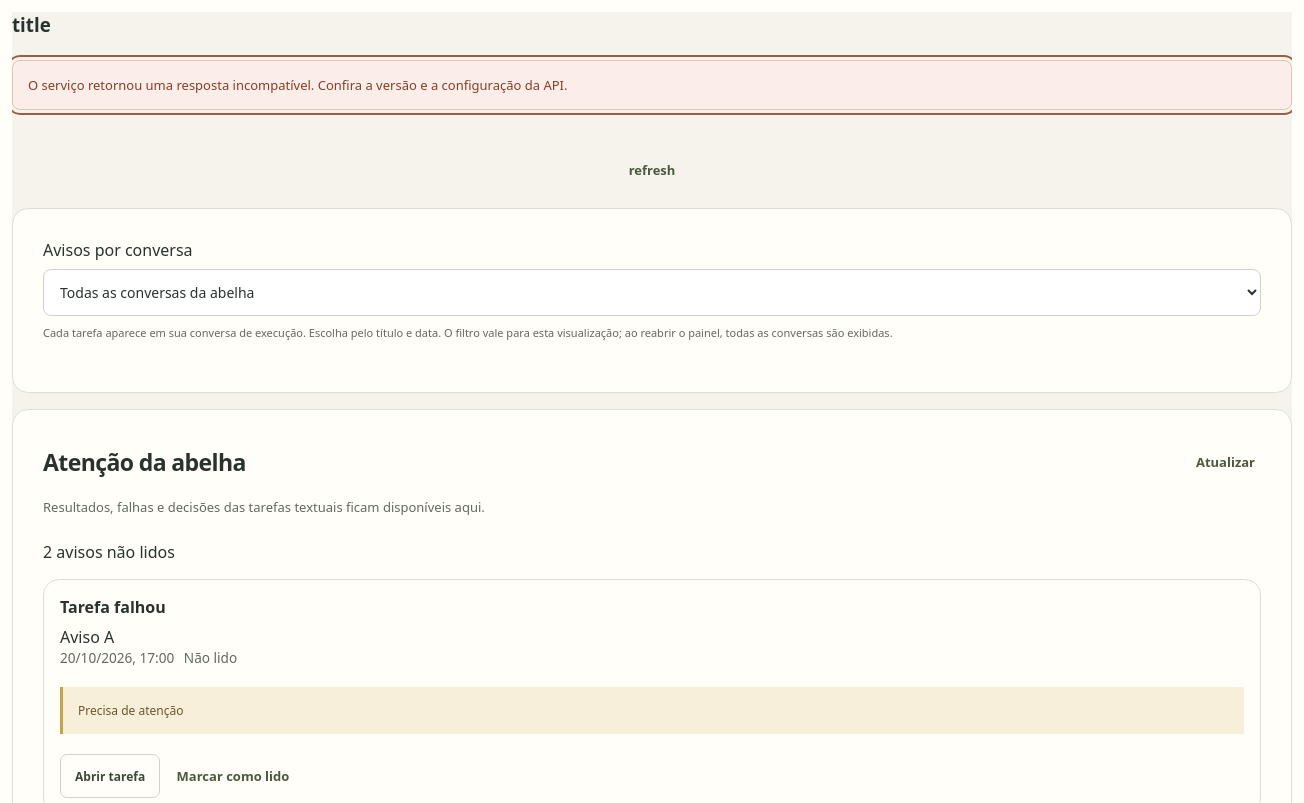
Test: attention scope workspace › locks scope after an uncertain read and retries the same body in the same conversation
Select "Conversa <script> · 20/10/2026, 17:00" in the dropdown: (652, 293) top-left (43, 269), bottom-right (1261, 316)
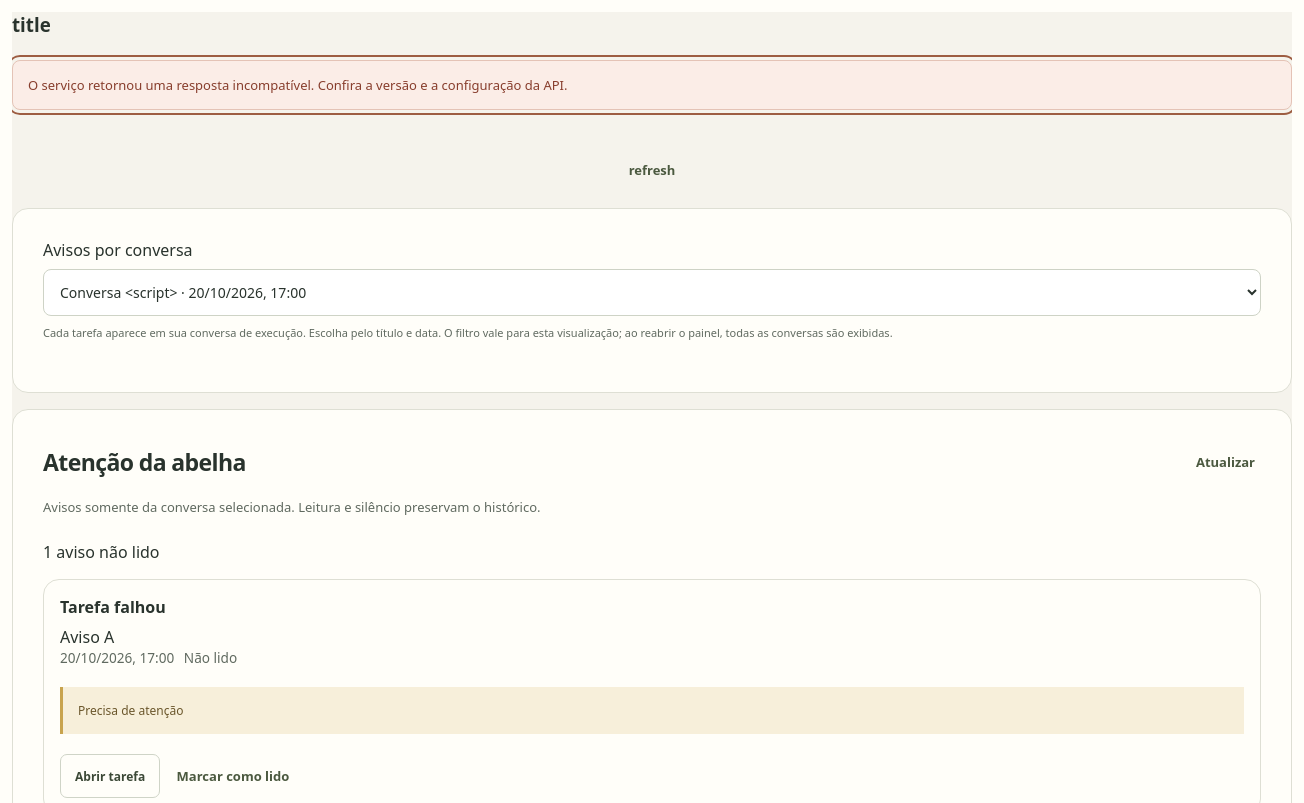
Click the button "Marcar como lido": (233, 776) top-left (171, 754), bottom-right (295, 798)
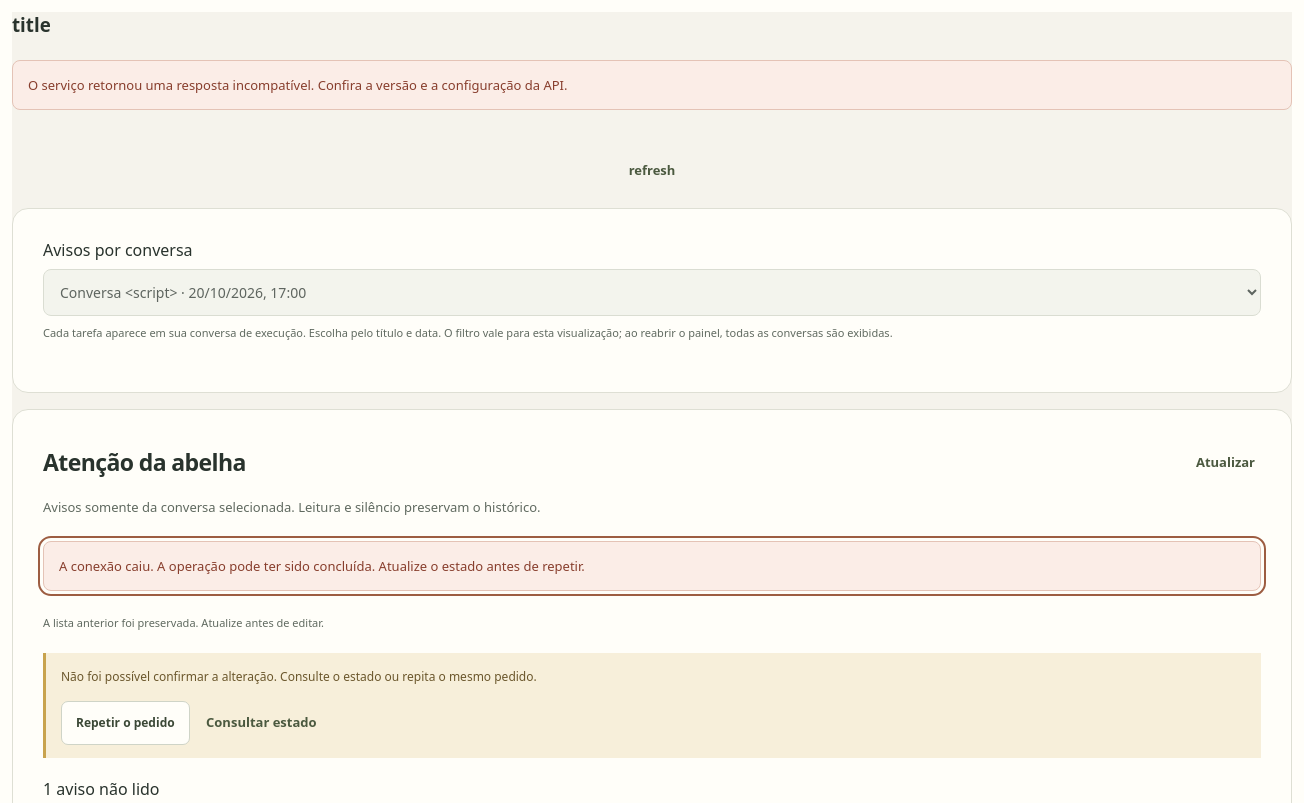
Now the dropdown is disabled, box top-left (43, 269), bottom-right (1261, 316)
Now the text "Não foi possível confirmar a alteração. Consulte o estado ou repita o mesmo pedido." is shown, box top-left (61, 668), bottom-right (537, 685)
Click the button "Repetir o pedido": (125, 723) top-left (61, 701), bottom-right (190, 745)
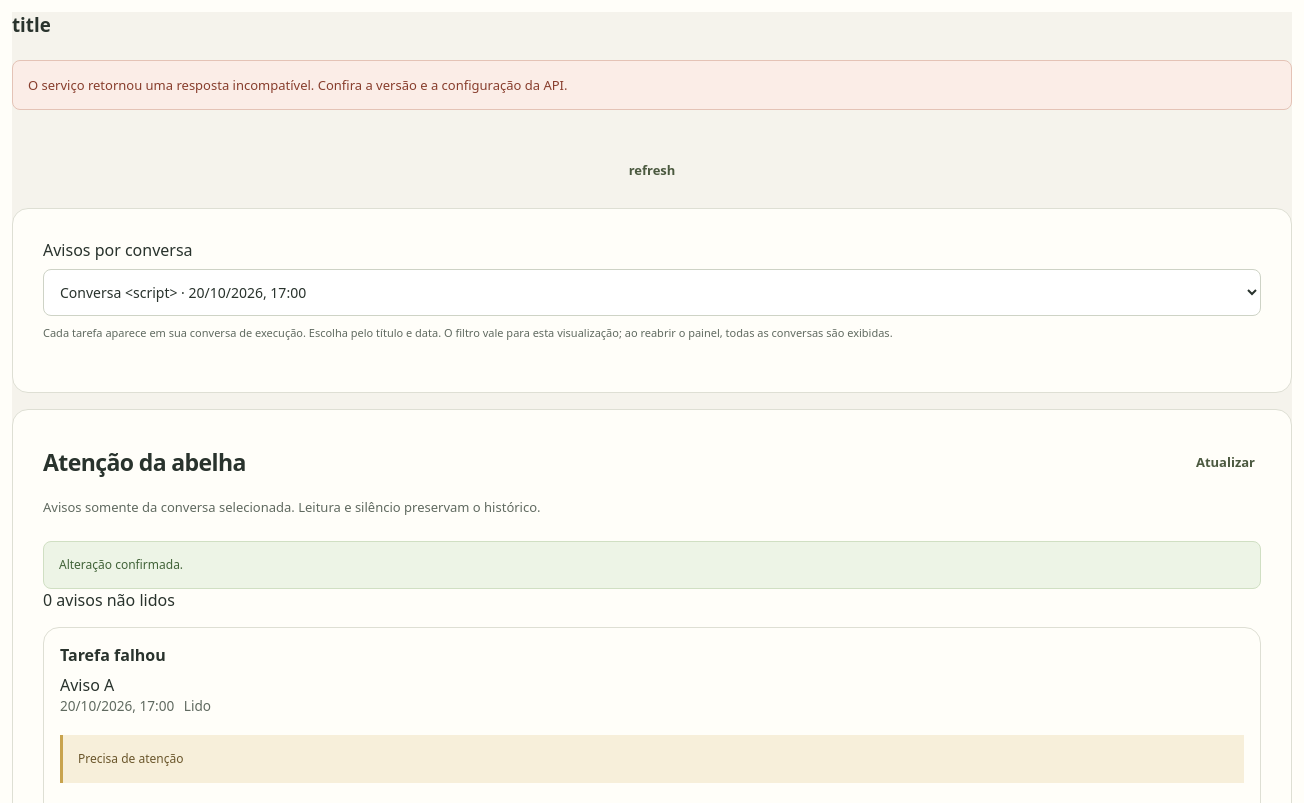
Now the dropdown is enabled, box top-left (43, 269), bottom-right (1261, 316)
